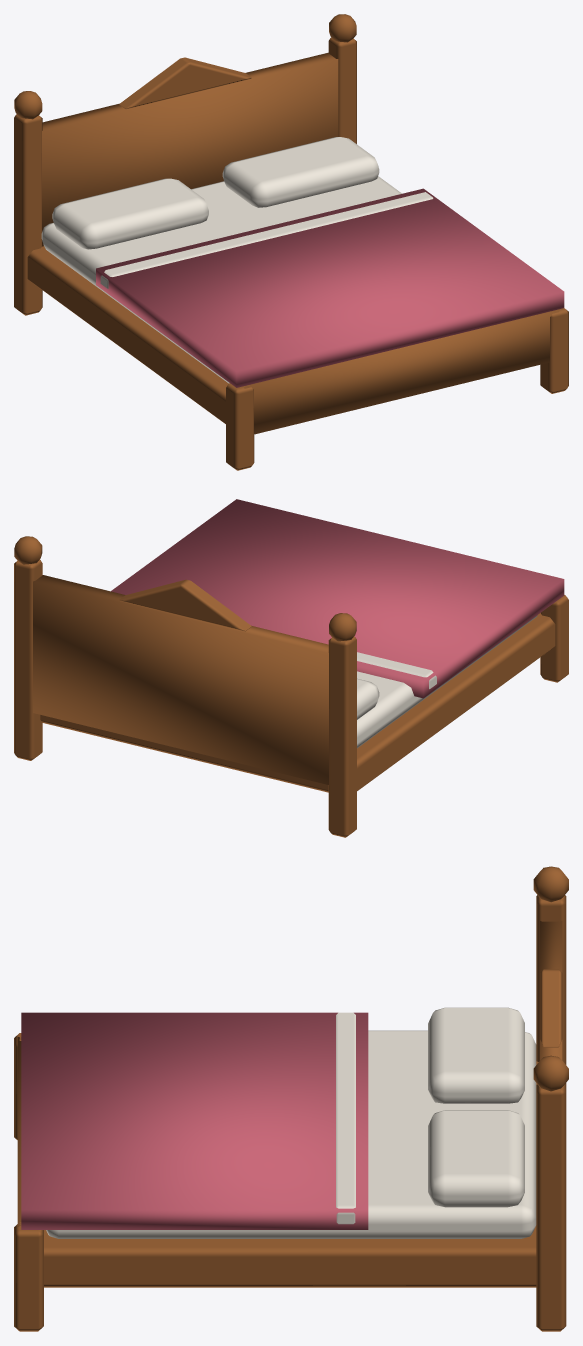
File: bed_double.glb
3 renders of one model, top to bottom at view 1: azimuth 30°, elevation 25°; view 2: azimuth 150°, elevation 25°; view 3: azimuth 270°, elevation 25°, orthographic. The views are drawn at different scales.
Visible parts, largest first — view 1: bed_double; view 2: bed_double; view 3: bed_double.
Boxes of the visible parts, left/top/right/bottom form: bed_double: left=14, top=14, right=568, bottom=470; bed_double: left=14, top=499, right=568, bottom=837; bed_double: left=14, top=866, right=568, bottom=1331.
Size of the model in its own units: 1.3 by 0.8 by 1.49.
